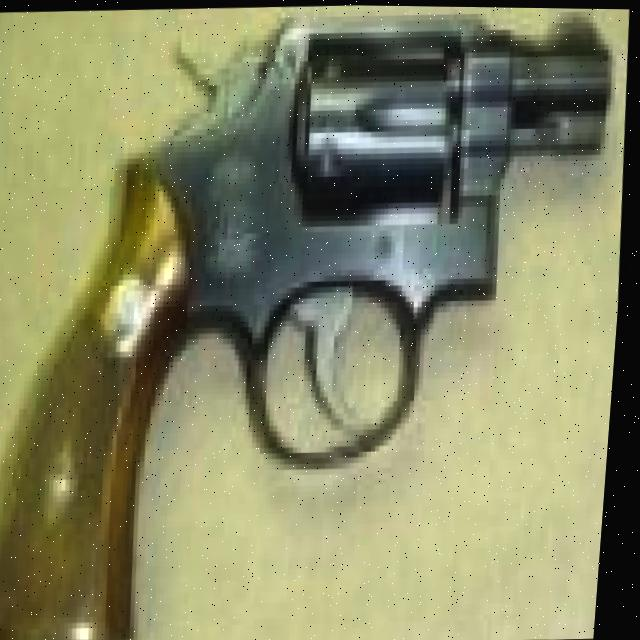pistol: (0, 1, 630, 640)
